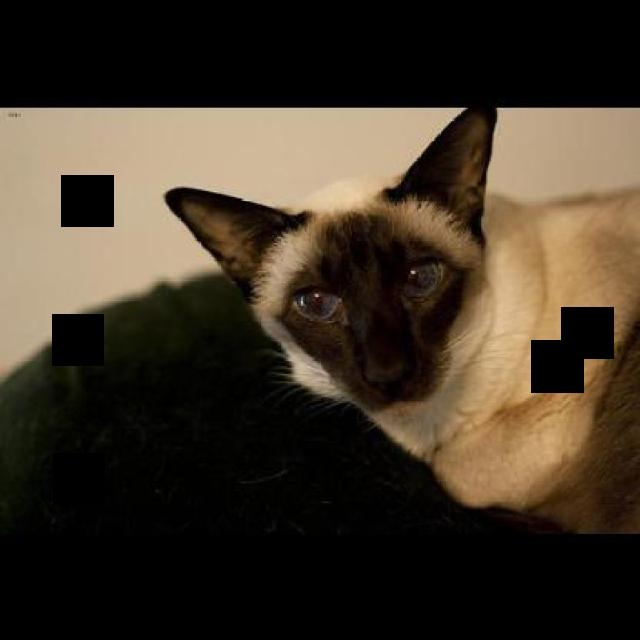unauthorized: (162, 103, 638, 537)
